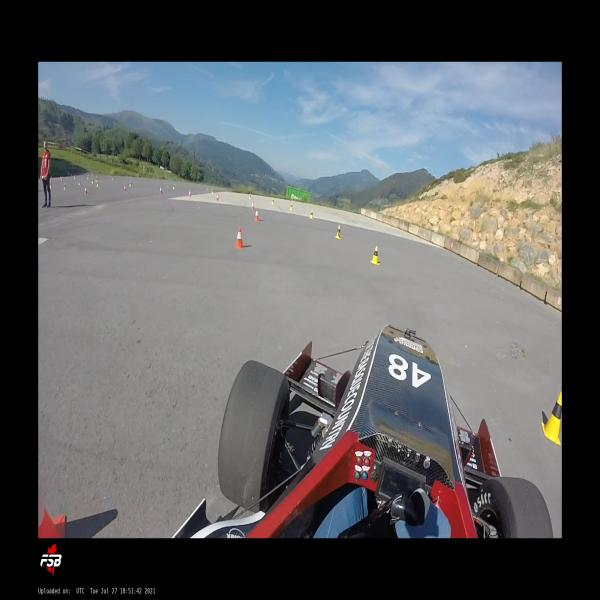orange_cone: (236, 227, 245, 248), (254, 210, 258, 221), (252, 201, 254, 210), (124, 184, 126, 192), (85, 187, 87, 194), (216, 194, 218, 201), (160, 187, 162, 193), (189, 190, 191, 196)
yellow_cone: (541, 390, 562, 446), (370, 246, 380, 265), (334, 224, 342, 240), (310, 209, 313, 219), (64, 183, 67, 190), (96, 181, 99, 187), (290, 203, 292, 210), (130, 181, 132, 187), (173, 184, 175, 190), (212, 188, 214, 194), (249, 194, 251, 200), (272, 199, 274, 205), (79, 180, 80, 185), (92, 179, 93, 184)
